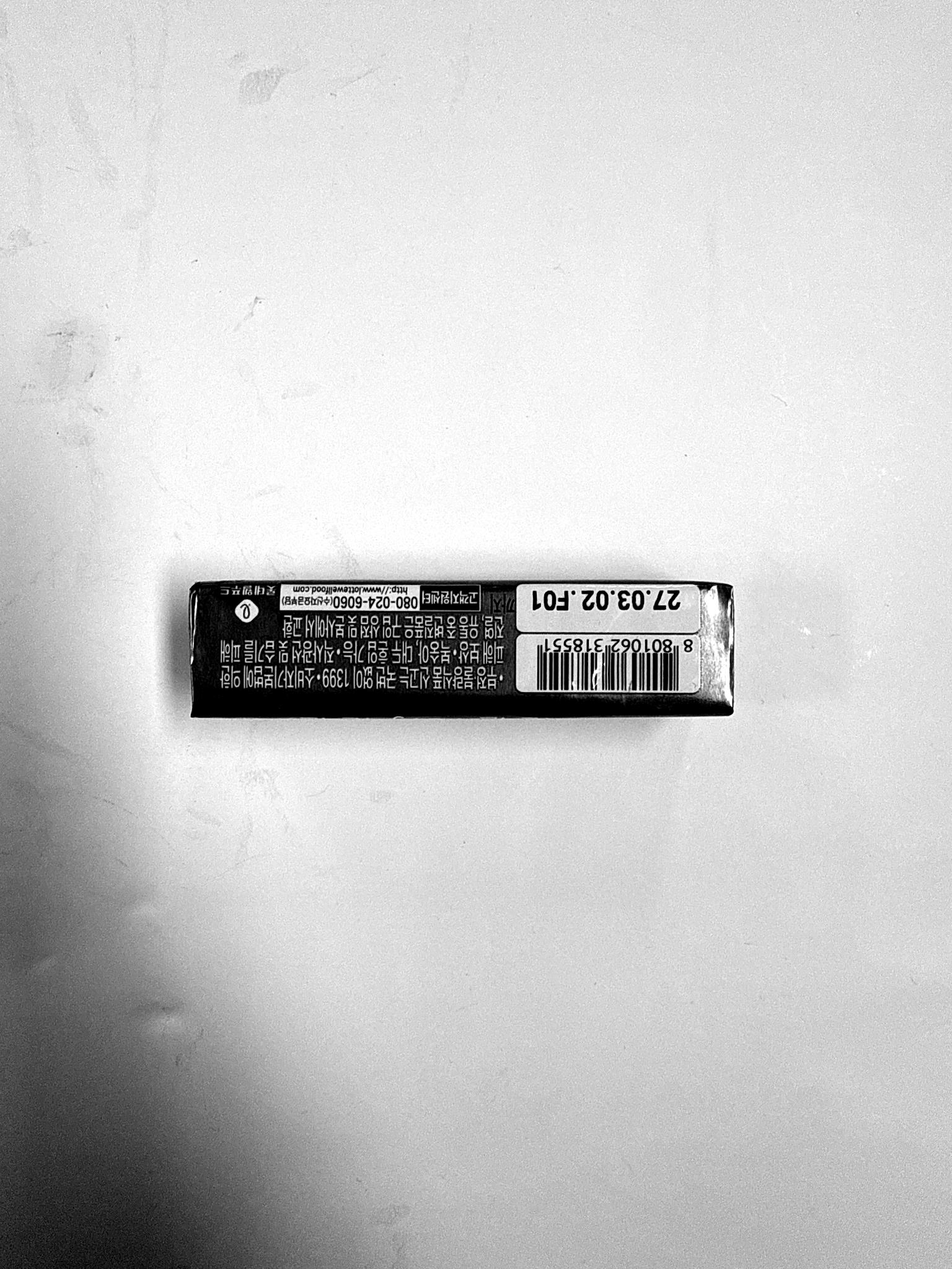gum_green: (188, 574, 735, 718)
